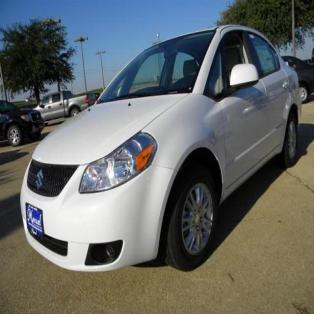Auto: (20, 24, 301, 272)
